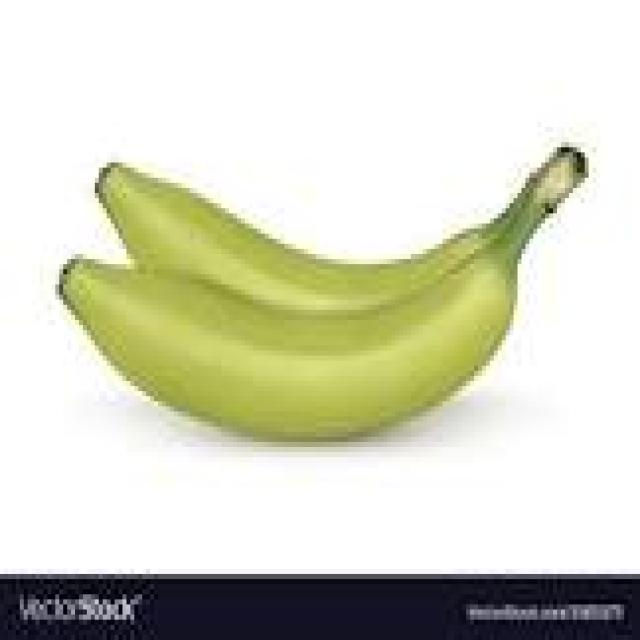banana: (60, 148, 584, 436), (95, 163, 537, 309)
